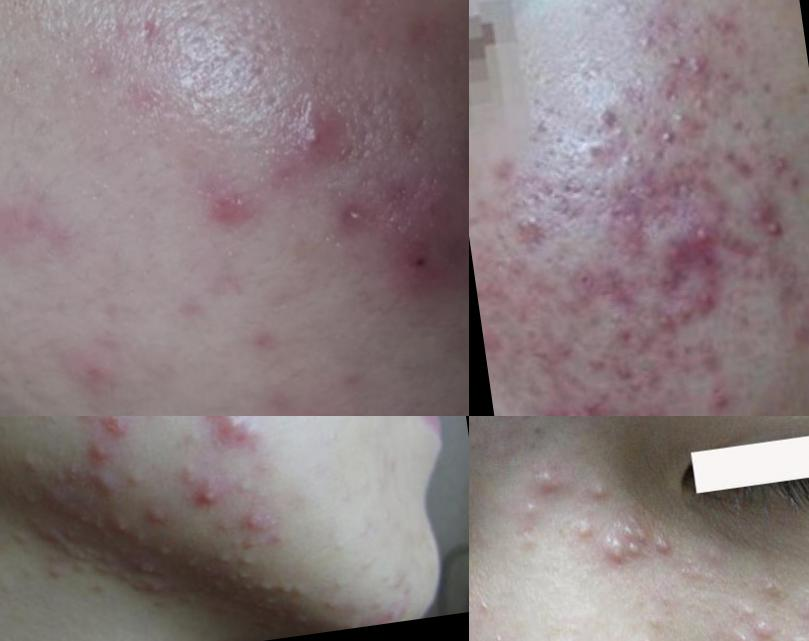blackhead: (516, 417, 560, 451)
cystic: (235, 76, 382, 195), (367, 156, 470, 302), (211, 417, 266, 457), (83, 462, 125, 512)
papular: (653, 203, 740, 284), (562, 253, 642, 312), (733, 196, 796, 254), (519, 324, 587, 374), (665, 275, 726, 329), (507, 198, 560, 252), (557, 378, 621, 417), (598, 306, 645, 354), (557, 511, 606, 554), (779, 577, 809, 639), (610, 391, 679, 417), (695, 385, 740, 417), (523, 399, 588, 417), (99, 417, 133, 443)
purulent: (521, 456, 572, 504), (736, 596, 784, 641), (649, 525, 680, 569), (581, 469, 614, 508), (601, 536, 631, 578), (82, 427, 115, 464), (622, 520, 649, 562), (514, 495, 544, 530), (199, 485, 223, 511), (730, 631, 771, 641)
sebo-crystan-conglo: (240, 503, 283, 536), (103, 417, 133, 441)
whitehead: (238, 563, 310, 615), (602, 149, 651, 181), (221, 569, 258, 607), (214, 542, 258, 571), (648, 126, 690, 153), (642, 1, 685, 27), (662, 100, 693, 133), (1, 526, 34, 553), (16, 455, 46, 482), (85, 561, 119, 584), (665, 48, 693, 72), (155, 542, 180, 563), (75, 509, 95, 534), (330, 573, 348, 600), (630, 33, 652, 55), (111, 520, 131, 541)
